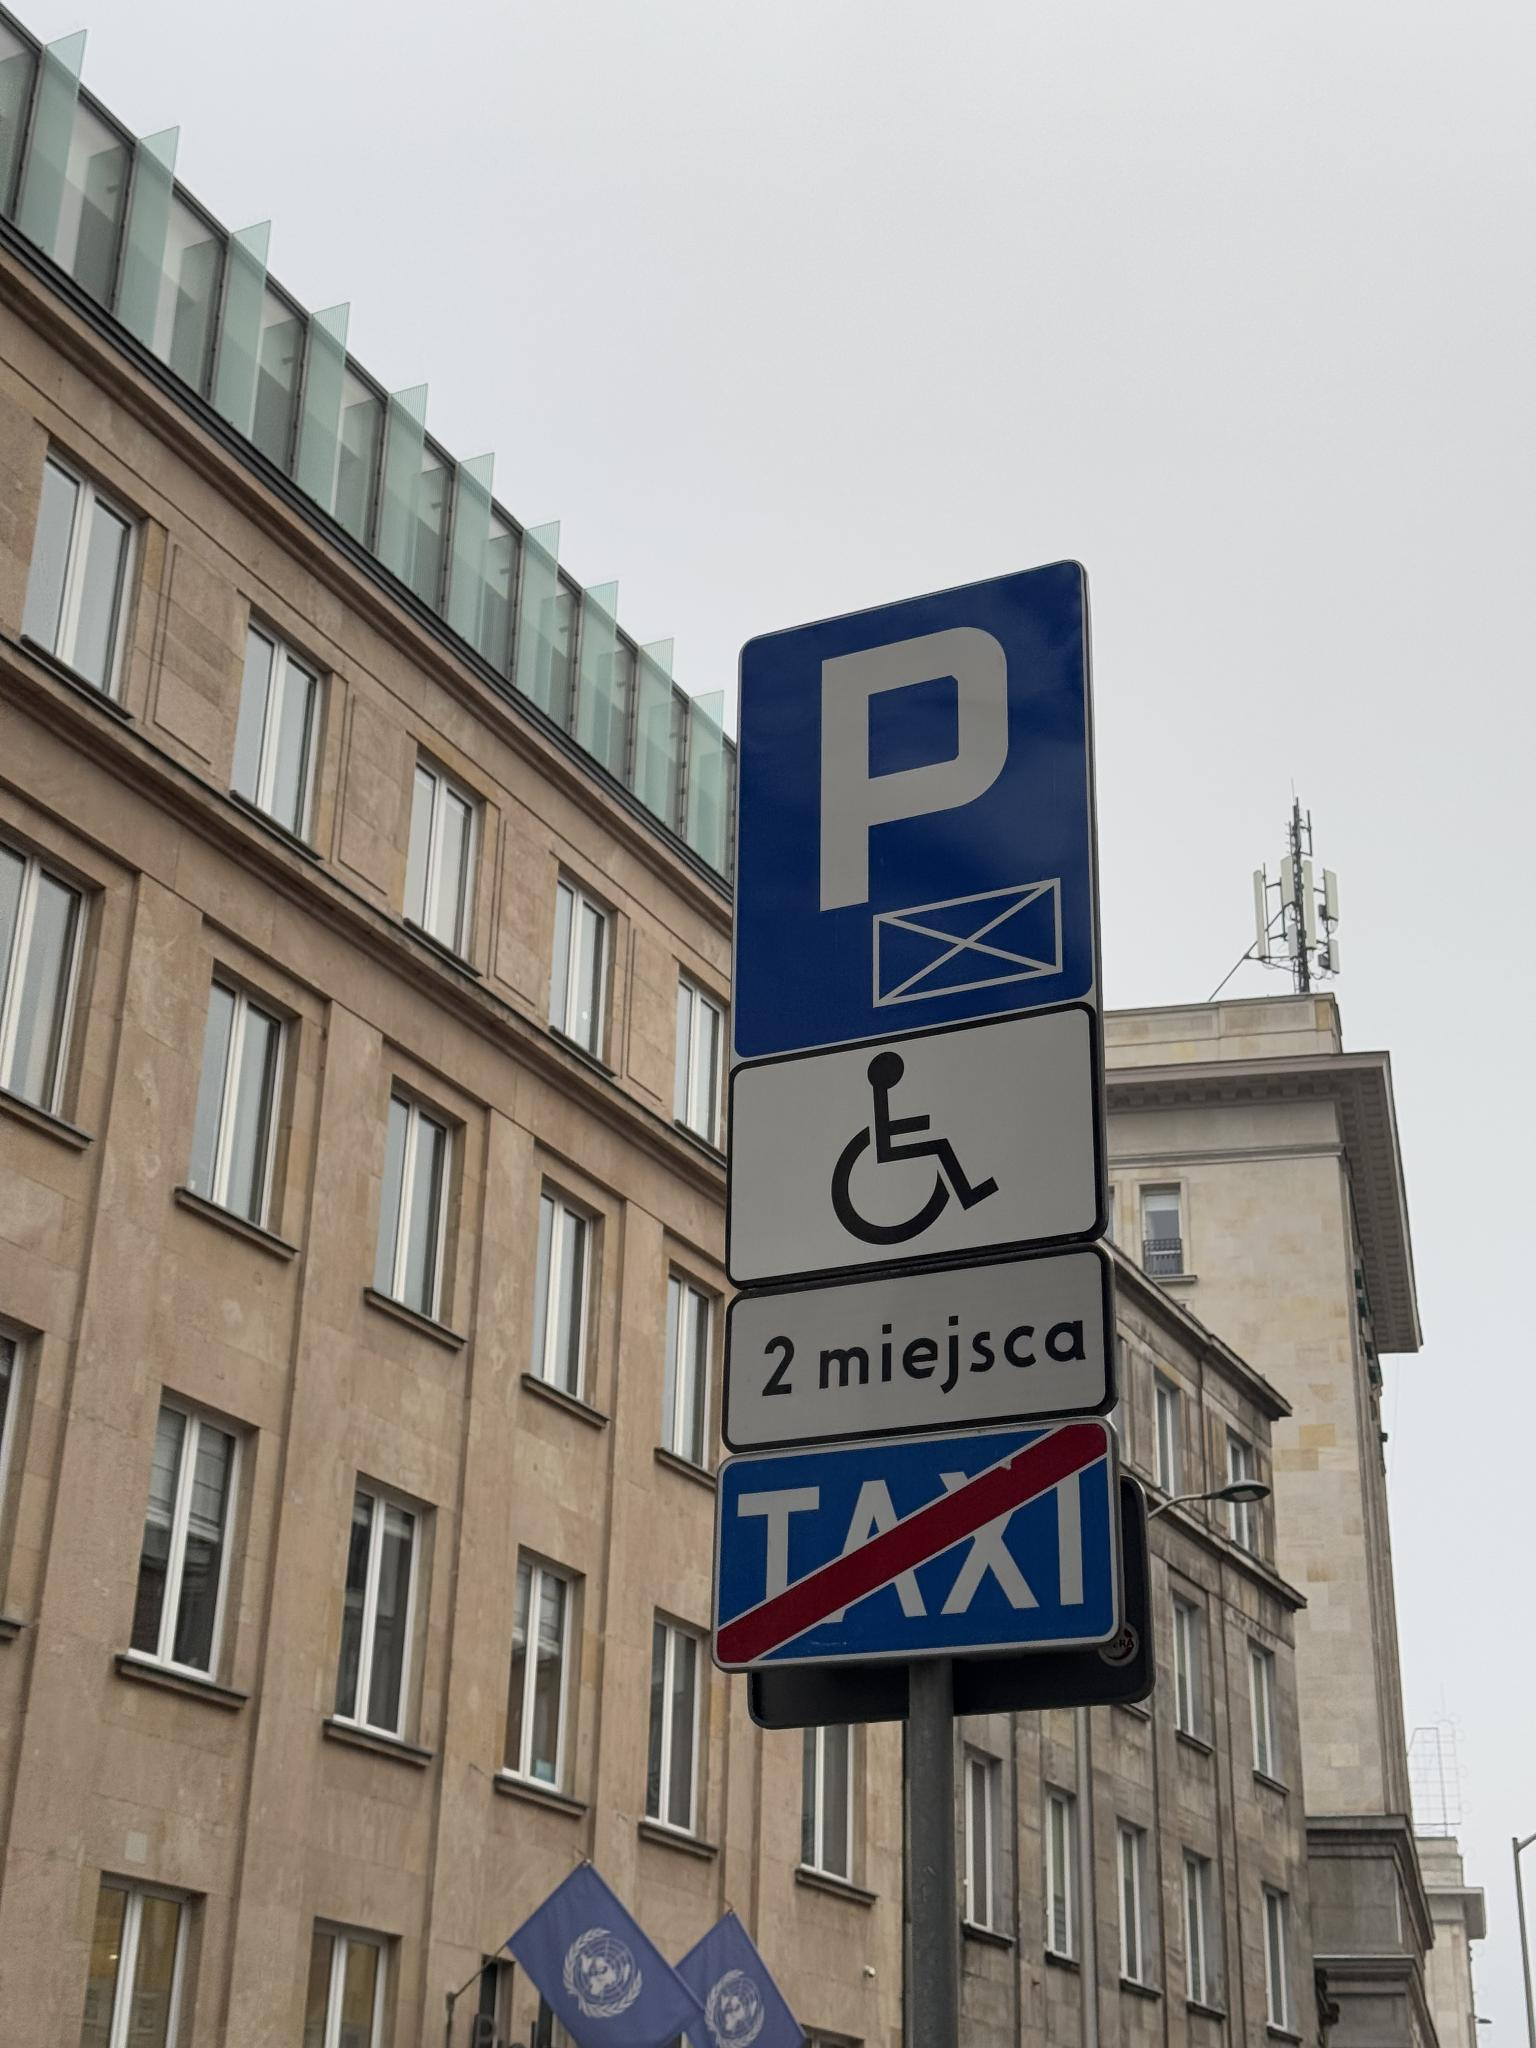information: (728, 555, 1105, 1056), (699, 1422, 1128, 1671)
other: (720, 1006, 1107, 1277), (716, 1258, 1120, 1440)
